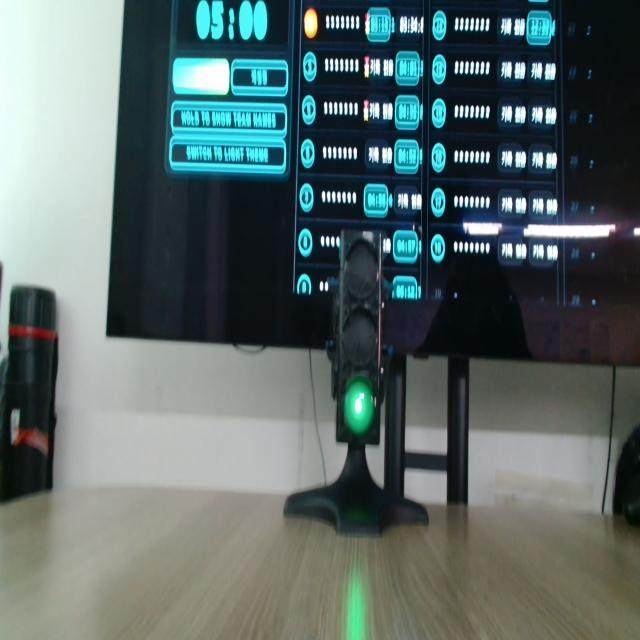green_light: (344, 377, 374, 436), (345, 574, 366, 639)
